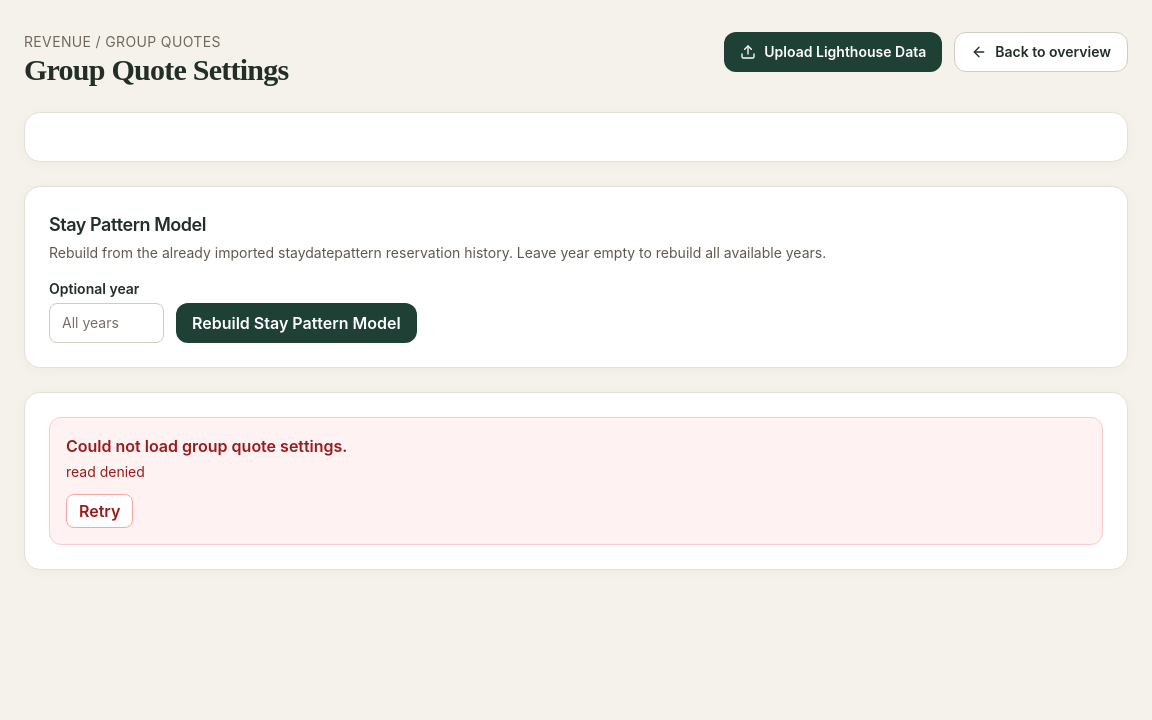
it: group quote settings recovery › finishes a failed read and retries the scoped settings request
Expected: the message shows "read denied", 66,463 -> 145,480
Click the button "Retry" at coordinates (100, 511), box 66,494 -> 133,528
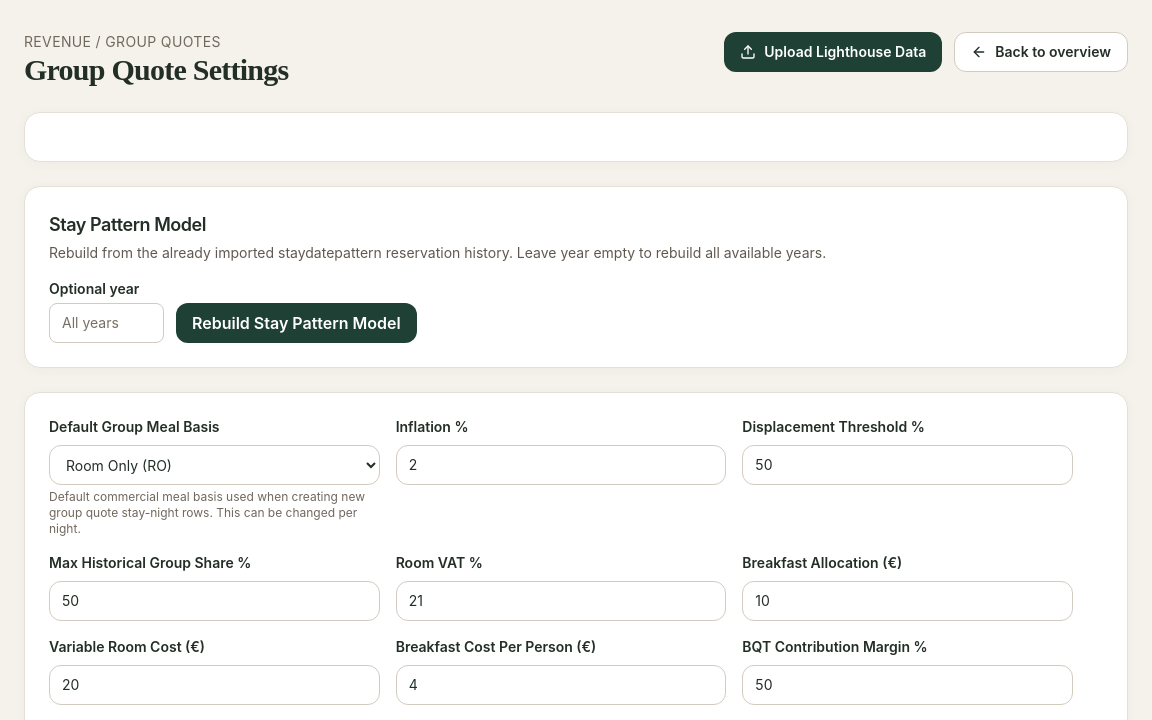
Now the number field labelled "Inflation %" holds "2", box 396,445 -> 726,485
